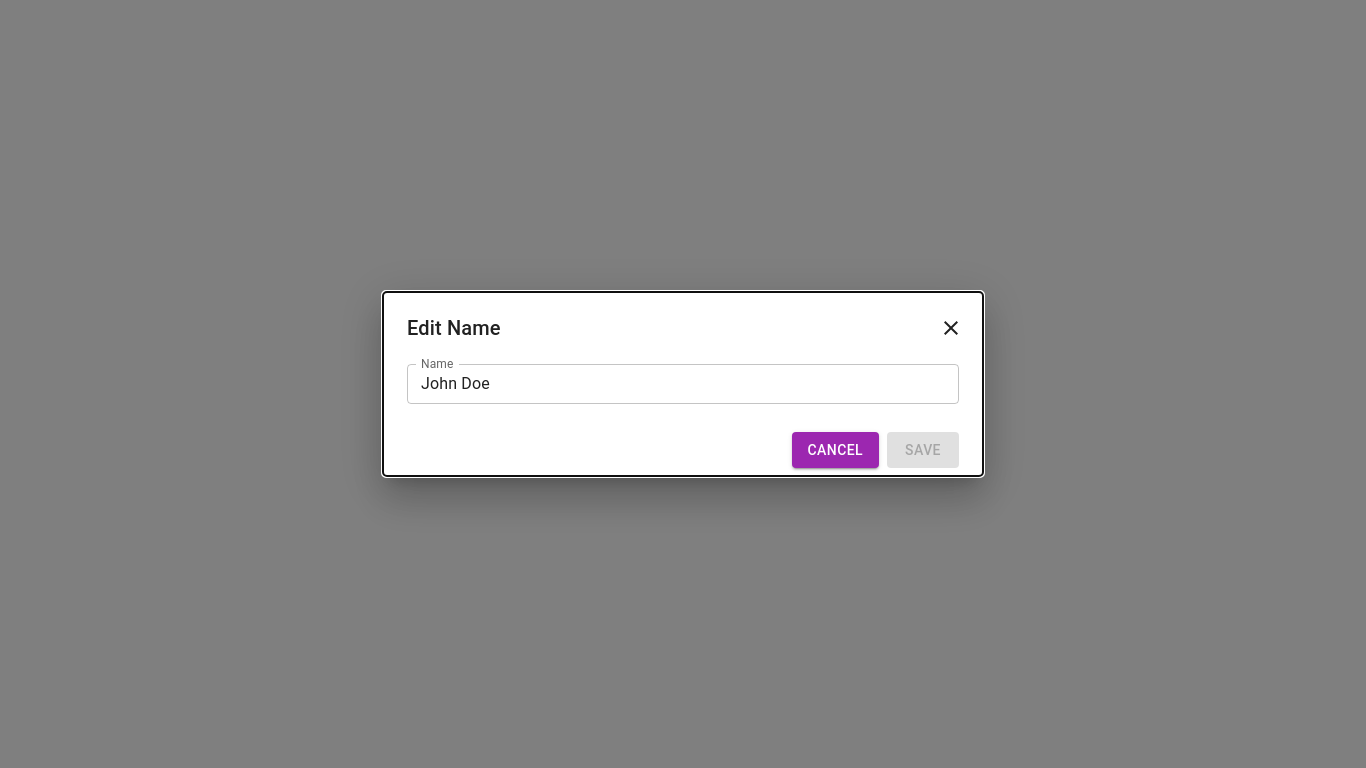
Test case: NameEditModal › Form validation - required field › shows error when name is empty
Clear the field labelled "Name" at (683, 384), box left=407, top=364, right=959, bottom=404
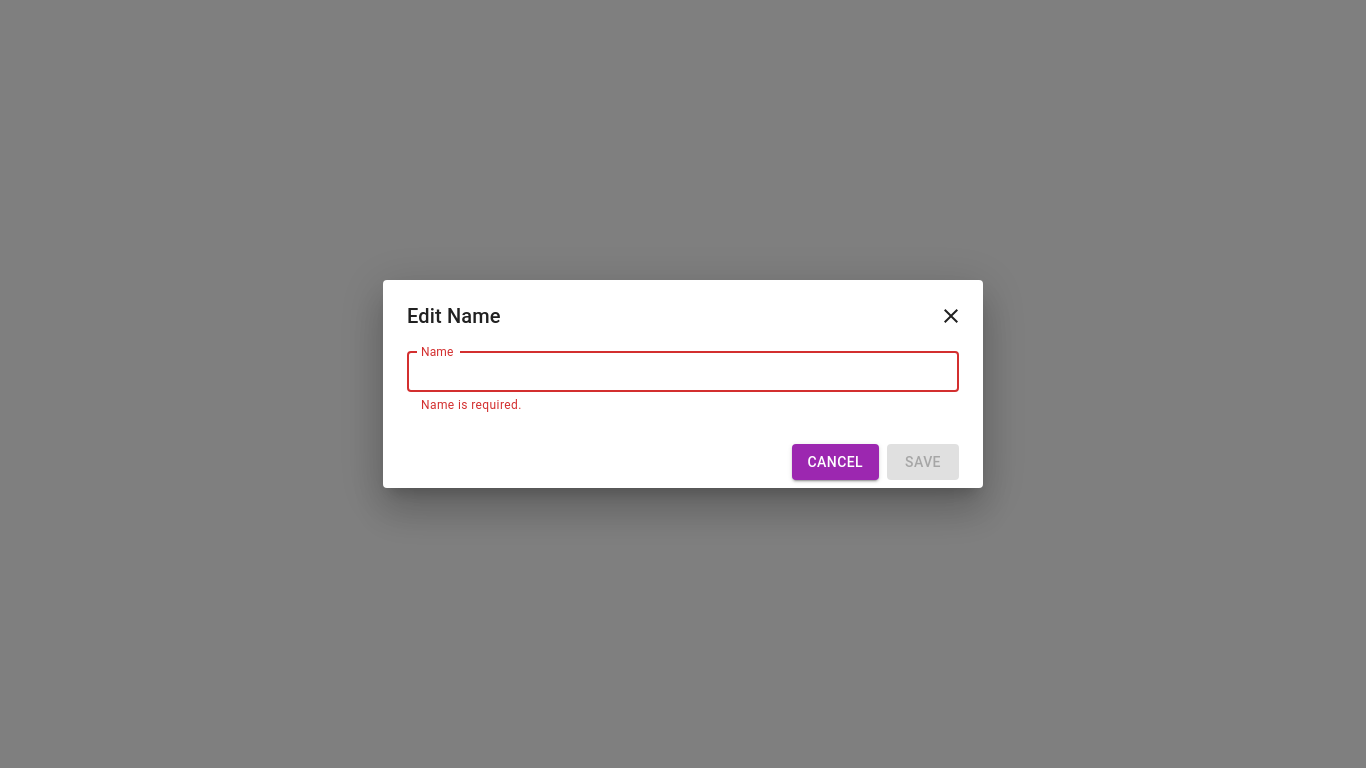
Expected: the text "Name is required." is shown, left=421, top=398, right=522, bottom=412
